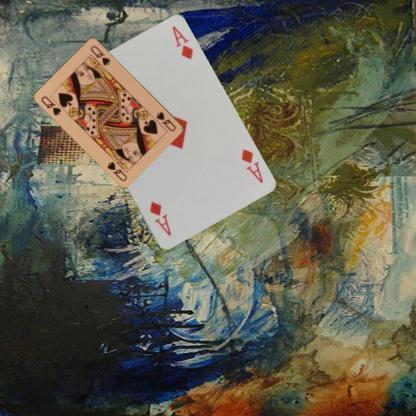Ad: (238, 146, 264, 184)
Qs: (154, 109, 177, 133), (39, 93, 62, 116)
